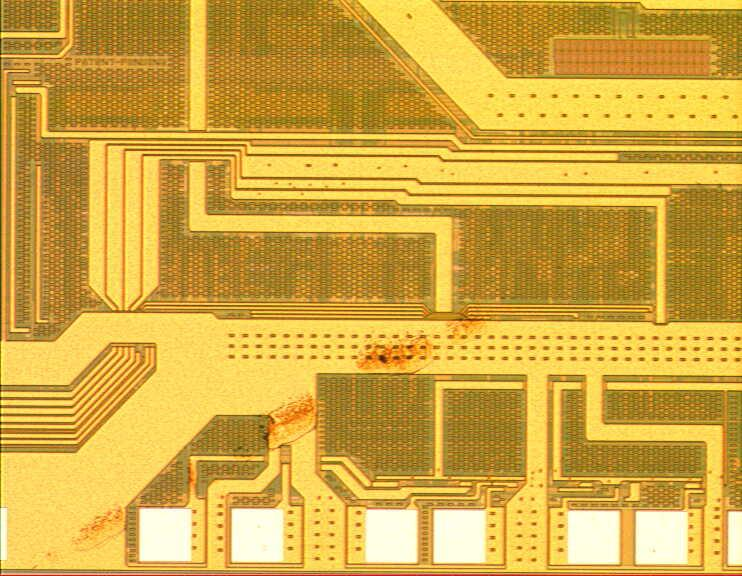SCRATCH: (12, 266, 551, 576)
